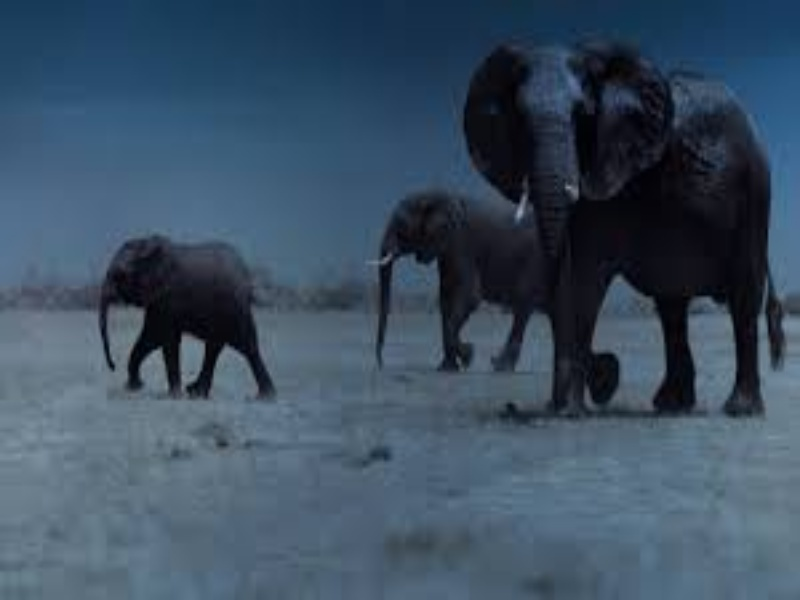elephant: (452, 31, 793, 435), (90, 201, 292, 416)
